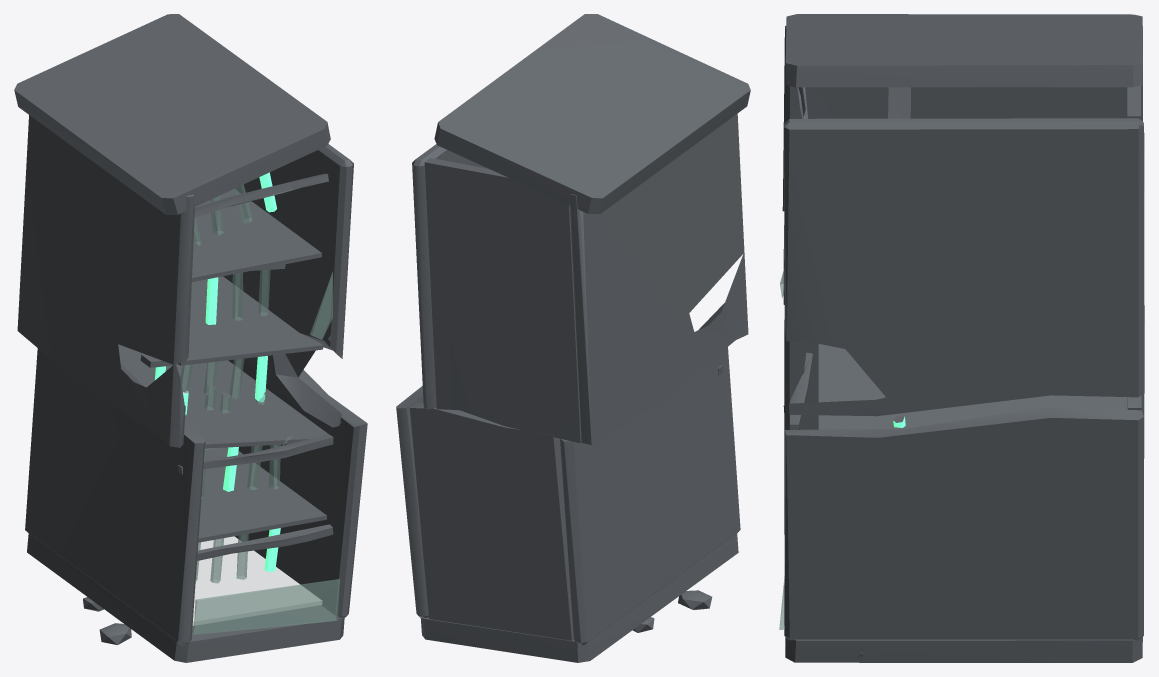
Rendered from vta_deb_specimen_rack_b.glb.
3 views of the same model, side by side, from view 1: azimuth 30°, elevation 25°; view 2: azimuth 150°, elevation 25°; view 3: azimuth 270°, elevation 25° (orthographic). The views are drawn at different scales.
Parts seen in each view (by area): view 1: husk, frag_05, frag_06, frag_04, frag_01, frag_02, frag_03; view 2: frag_05, husk, frag_06; view 3: frag_05, husk, frag_06, frag_02.
Boxes of the visible parts, x1,y1,x2,y2 form: husk: (25,344,367,662); frag_05: (17,115,353,447); frag_06: (14,14,330,245); frag_04: (140,276,330,402); frag_01: (197,524,333,560); frag_02: (178,434,333,474); frag_03: (194,173,328,217); frag_05: (412,113,748,444); husk: (396,347,740,662); frag_06: (434,14,750,214); frag_05: (780,26,1144,416); husk: (779,320,1144,662); frag_06: (785,14,1142,118); frag_02: (790,352,812,429).
Bounding box in the file's own units: 0.6277 × 1.45 × 0.8135.
